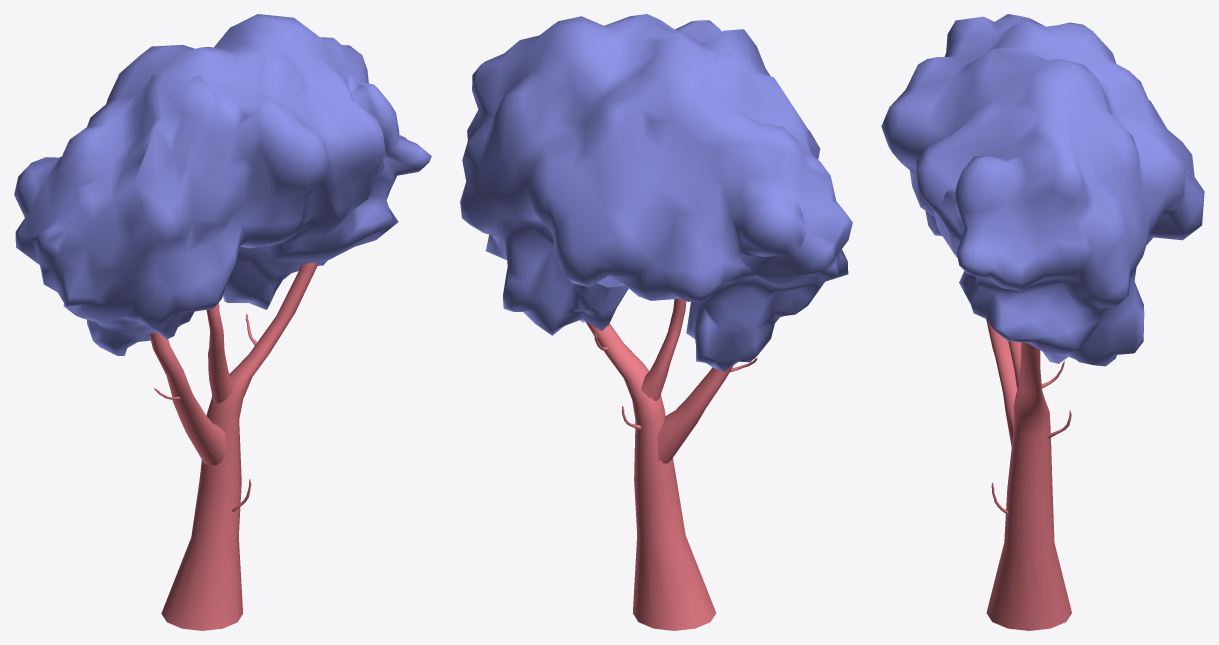
Rendered from GeoTree01.fbx.
3 renders of one model, left to right at view 1: azimuth 30°, elevation 25°; view 2: azimuth 150°, elevation 25°; view 3: azimuth 270°, elevation 25°, orthographic. The views are drawn at different scales.
Parts seen in each view (by area): view 1: GeoTree01_LOD0; view 2: GeoTree01_LOD0; view 3: GeoTree01_LOD0.
Part boxes in pixels (box(x1,y1,x2,y2)): GeoTree01_LOD0: box(14, 14, 431, 630); GeoTree01_LOD0: box(460, 14, 852, 630); GeoTree01_LOD0: box(881, 14, 1204, 630).
Size of what is drawn, in the model's own units: 354 by 517 by 256.
